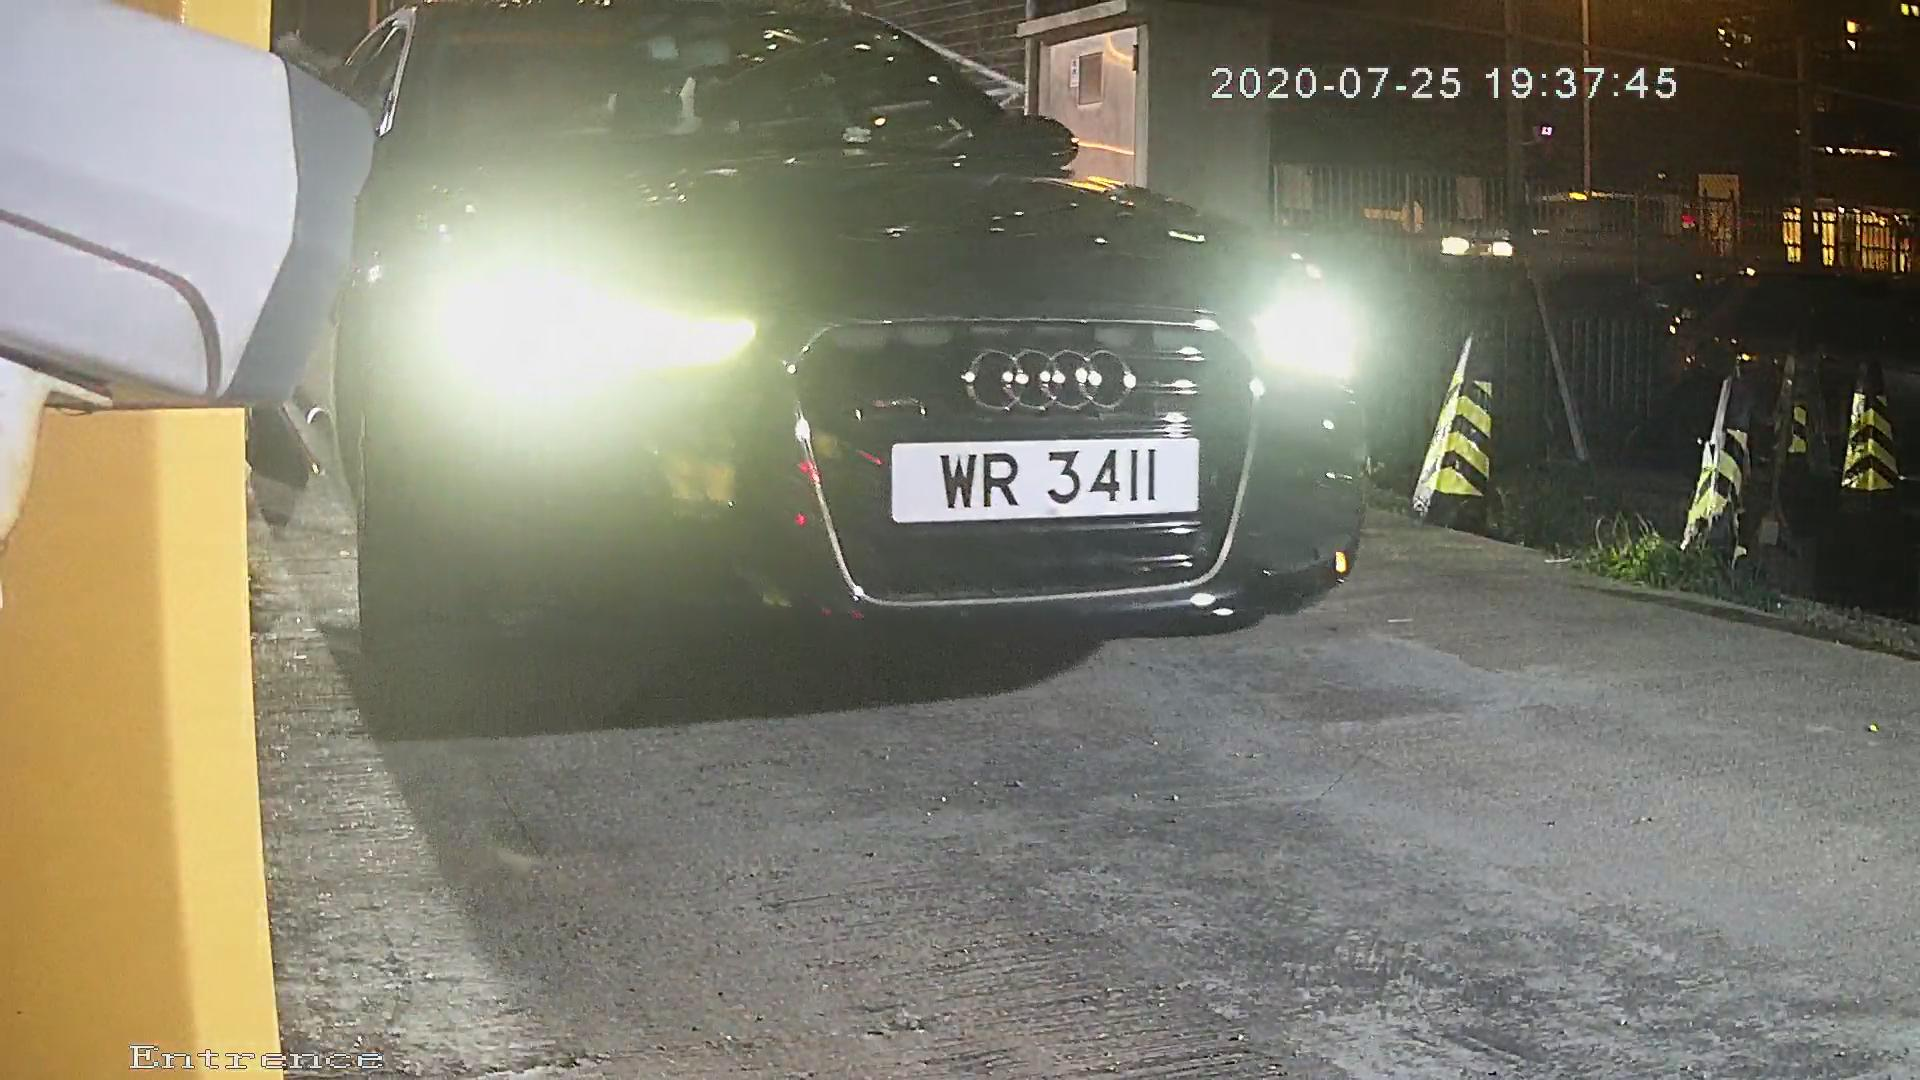Car: (163, 1, 1509, 743)
License Plate: (840, 425, 1218, 531)
